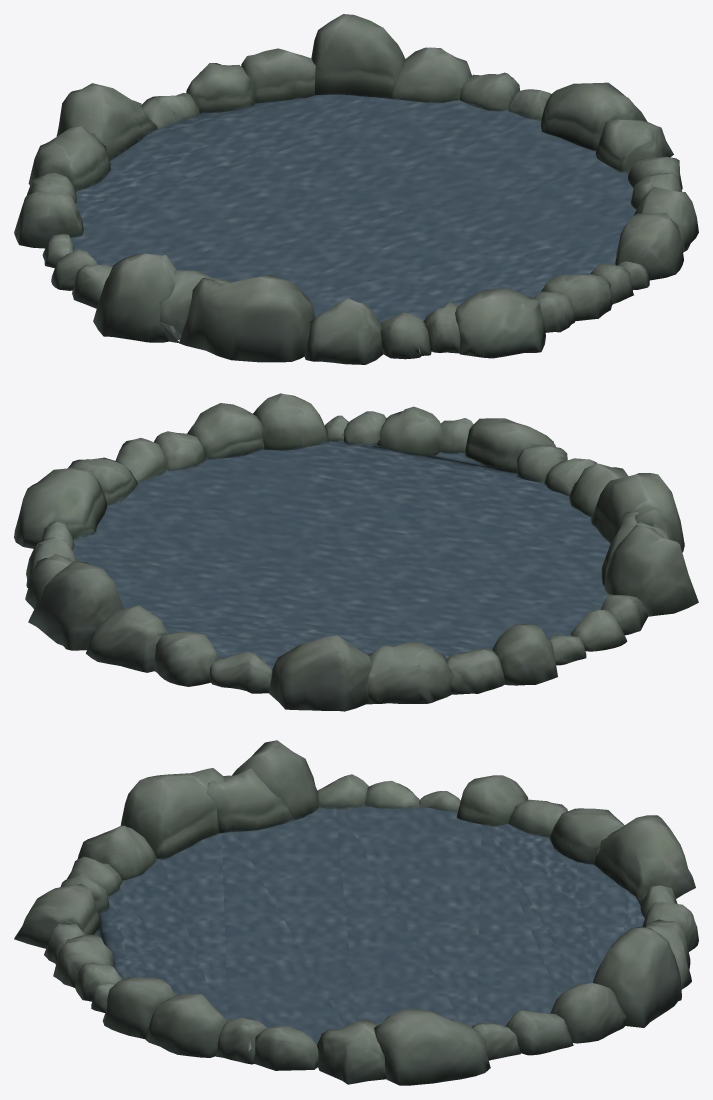
The model's file is Lake.fbx.
3 views of the same model, one above another, from view 1: azimuth 30°, elevation 25°; view 2: azimuth 150°, elevation 25°; view 3: azimuth 270°, elevation 25° (orthographic). The views are drawn at different scales.
Parts seen in each view (by area): view 1: Mesh_0; view 2: Mesh_0; view 3: Mesh_0.
Boxes of the visible parts, x1,y1,x2,y2 form: Mesh_0: [14, 14, 698, 364]; Mesh_0: [14, 393, 698, 711]; Mesh_0: [14, 740, 698, 1085].
Size of the model in its own units: 95.36 by 10.45 by 93.16.
1 material, 1 textured.
